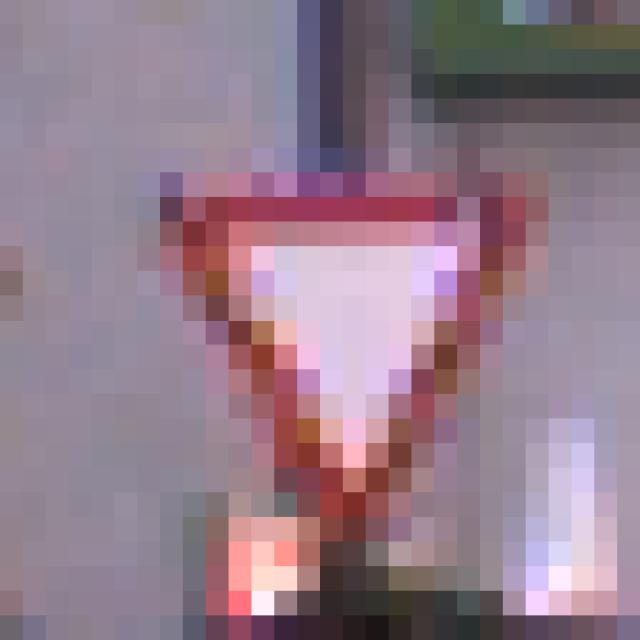Give Way: (115, 149, 527, 518)
